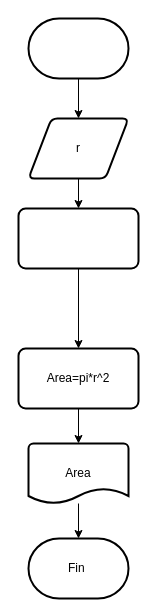
The diagram is 156 pixels wide and 616 high, and some of its shapes have lost their labels. The centre of each missing label's shape, as x and y in pixels:
"Inicio" goes at [78,48].
"pi=3,14" goes at [78,238].
